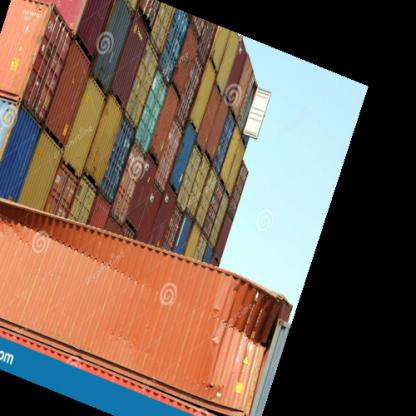Damage: (221, 291, 291, 344)
